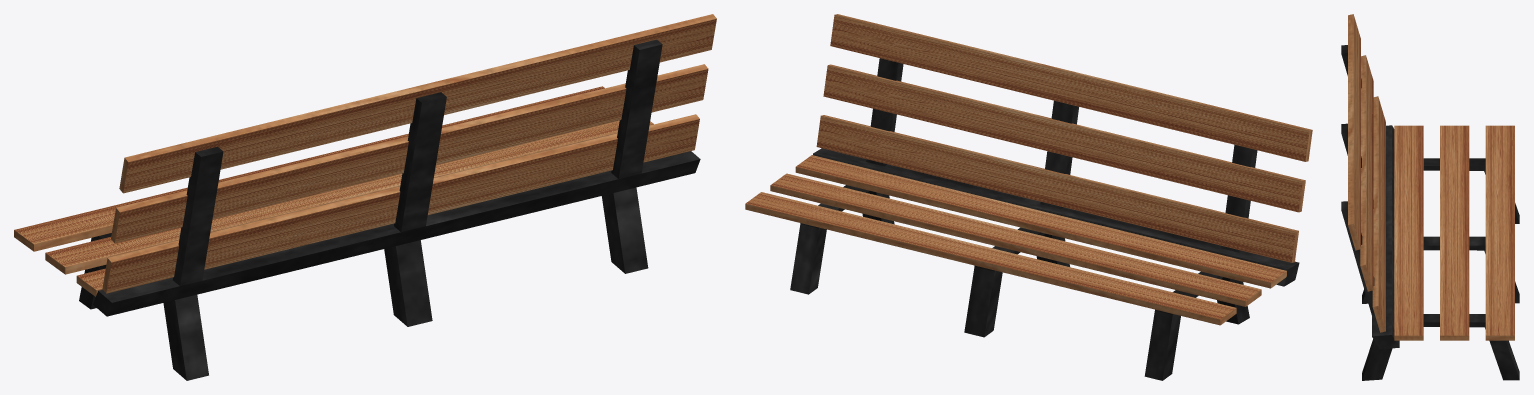
Rendered from yizi2.FBX.
3 renders of one model, left to right at view 1: azimuth 30°, elevation 25°; view 2: azimuth 150°, elevation 25°; view 3: azimuth 270°, elevation 25°, orthographic. The views are drawn at different scales.
Parts seen in each view (by area): view 1: Box017; view 2: Box017; view 3: Box017.
Boxes of the visible parts, <box> form: Box017: <box>14,14,716,380</box>; Box017: <box>745,14,1312,380</box>; Box017: <box>1341,14,1519,380</box>.
Size of the model in its own units: 170 by 67.41 by 61.21.
